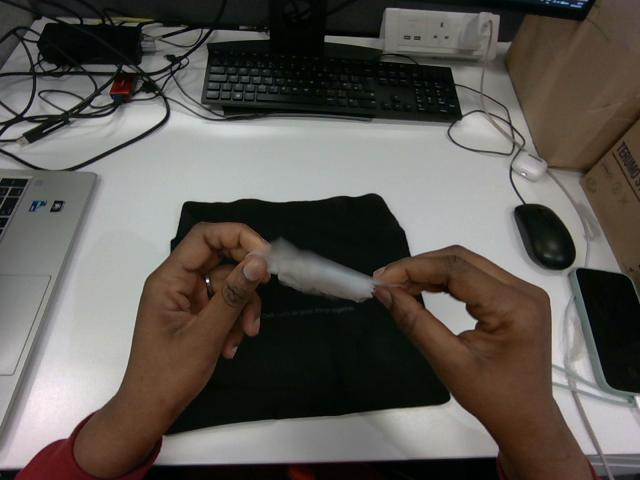gauze: (251, 238, 385, 301)
